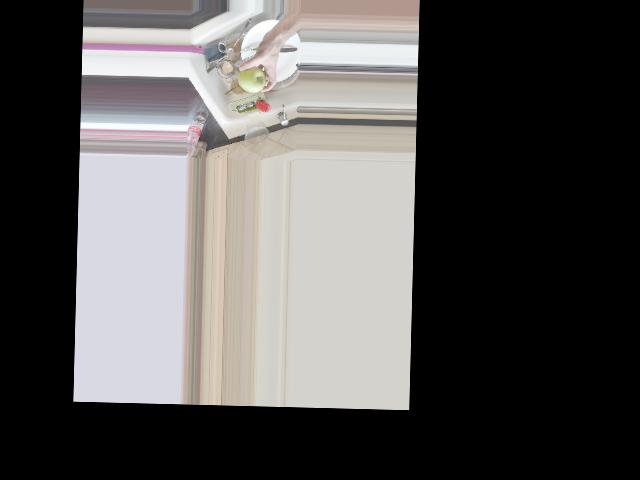apple: (237, 62, 268, 94)
